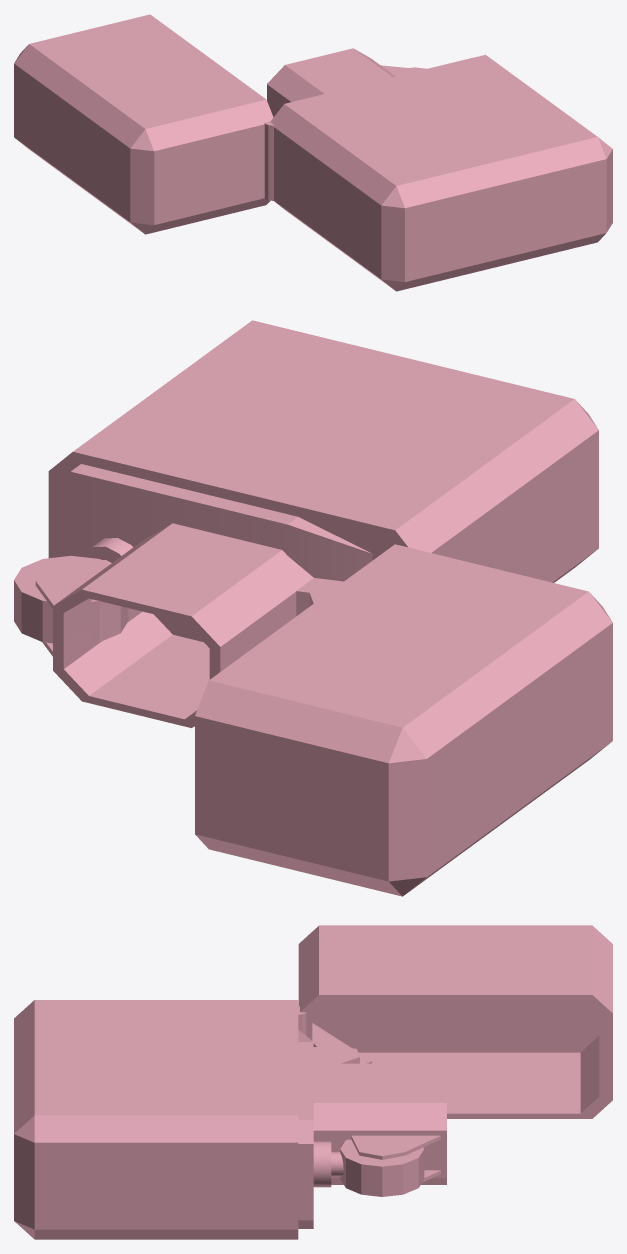
File: FlipLighter.fbx
3 views of the same model, one above another, from view 1: azimuth 30°, elevation 25°; view 2: azimuth 150°, elevation 25°; view 3: azimuth 270°, elevation 25° (orthographic). The views are drawn at different scales.
Visible parts, largest first — view 1: FlipLighter; view 2: FlipLighter; view 3: FlipLighter.
Boxes of the visible parts, x1,y1,x2,y2 form: FlipLighter: (14, 14, 612, 291); FlipLighter: (14, 320, 612, 896); FlipLighter: (14, 925, 612, 1239).
Size of the model in its own units: 7.89 by 2.2 by 9.64.
